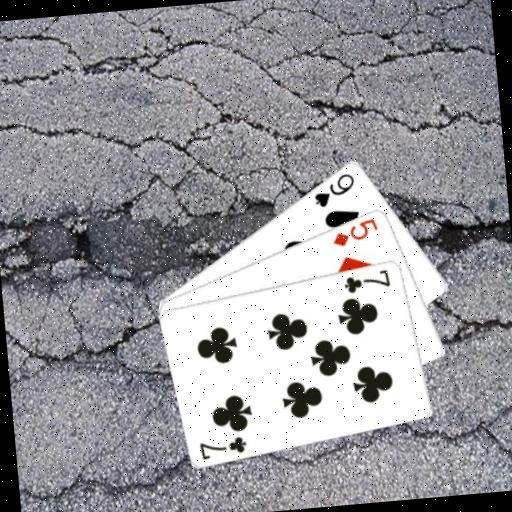5D: (329, 214, 381, 249)
7C: (340, 265, 393, 295), (196, 433, 250, 462)
9S: (309, 169, 359, 210)
